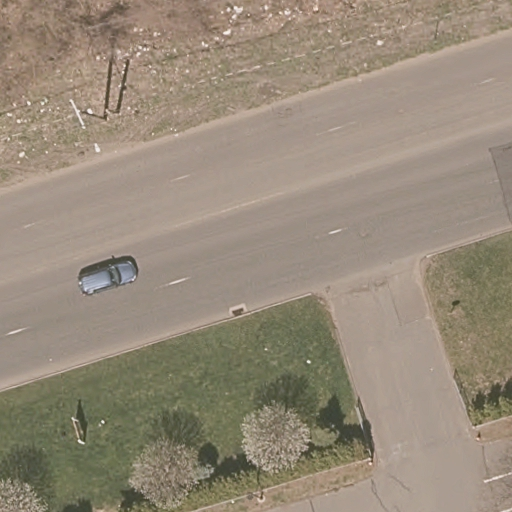DT: (67, 99, 88, 129)
